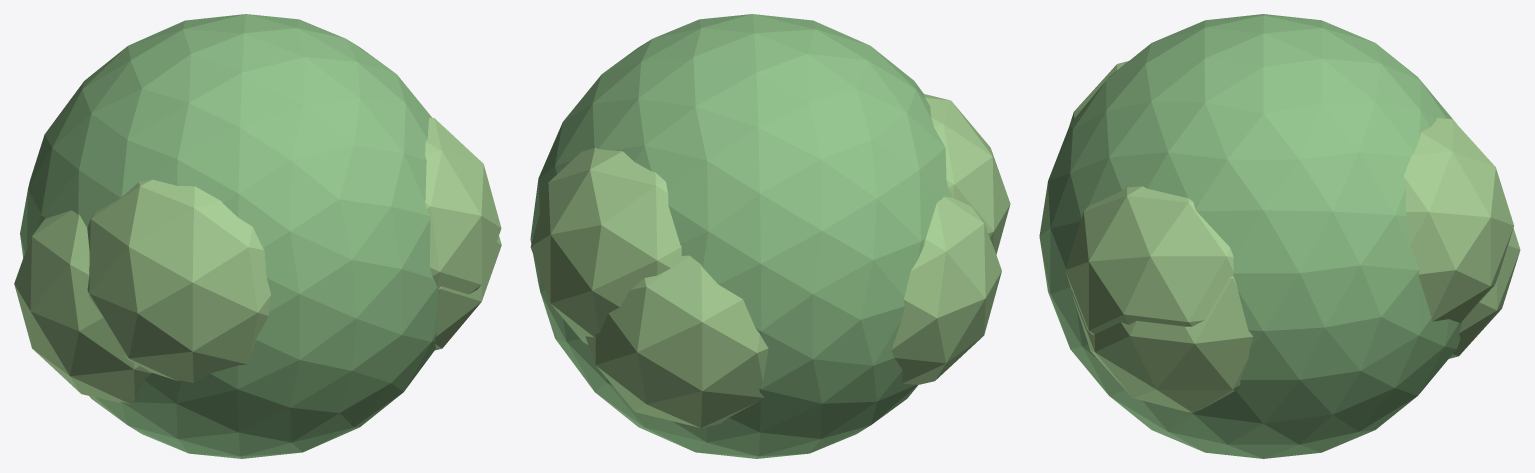
File: bush.glb
3 views of the same model, side by side, from view 1: azimuth 30°, elevation 25°; view 2: azimuth 150°, elevation 25°; view 3: azimuth 270°, elevation 25° (orthographic).
Visible parts, largest first — view 1: bush_leaf, bush_leaf2; view 2: bush_leaf, bush_leaf2; view 3: bush_leaf, bush_leaf2.
Boxes of the visible parts, <box> form: bush_leaf: <box>20,14,438,458</box>; bush_leaf2: <box>14,117,501,404</box>; bush_leaf: <box>530,14,952,458</box>; bush_leaf2: <box>530,94,1010,427</box>; bush_leaf: <box>1039,14,1462,458</box>; bush_leaf2: <box>1065,61,1520,412</box>.
Bounding box in the file's own units: 1.11 × 1 × 1.07.
